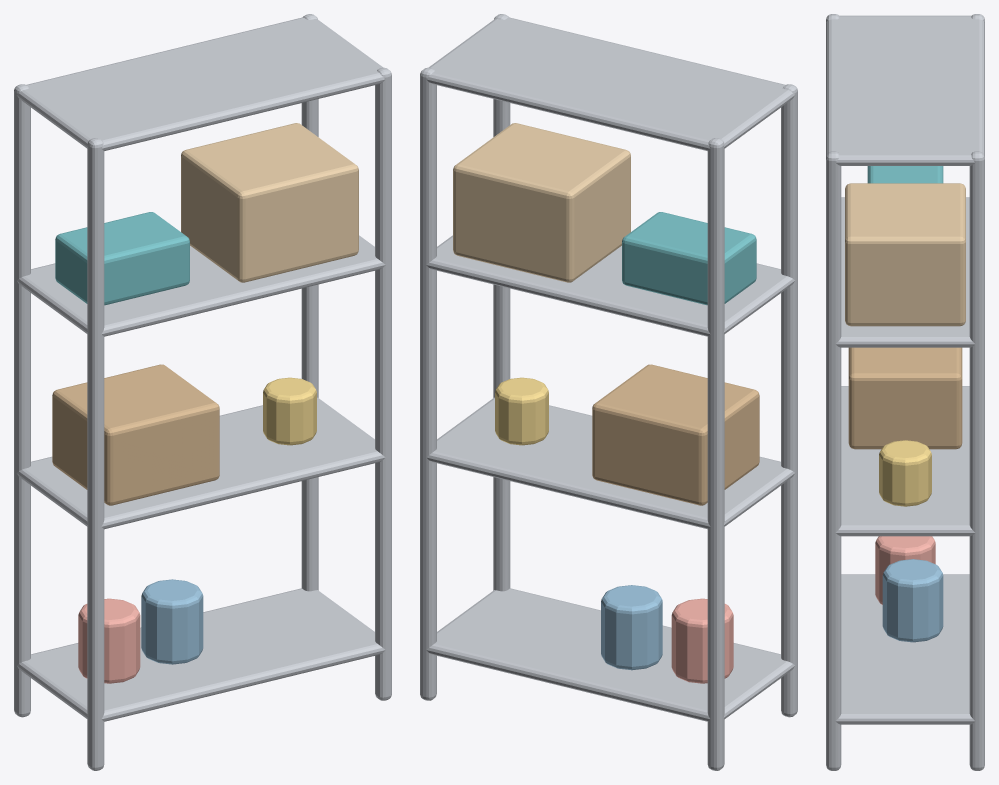
File: MetalShelf.fbx
3 views of the same model, side by side, from view 1: azimuth 30°, elevation 25°; view 2: azimuth 150°, elevation 25°; view 3: azimuth 270°, elevation 25° (orthographic). The views are drawn at different scales.
Parts seen in each view (by area): view 1: MetalShelf; view 2: MetalShelf; view 3: MetalShelf.
Boxes of the visible parts, x1,y1,x2,y2 form: MetalShelf: (14, 14, 391, 770); MetalShelf: (420, 14, 797, 770); MetalShelf: (826, 14, 984, 770).
Size of the model in its own units: 0.9 by 1.8 by 0.42.
